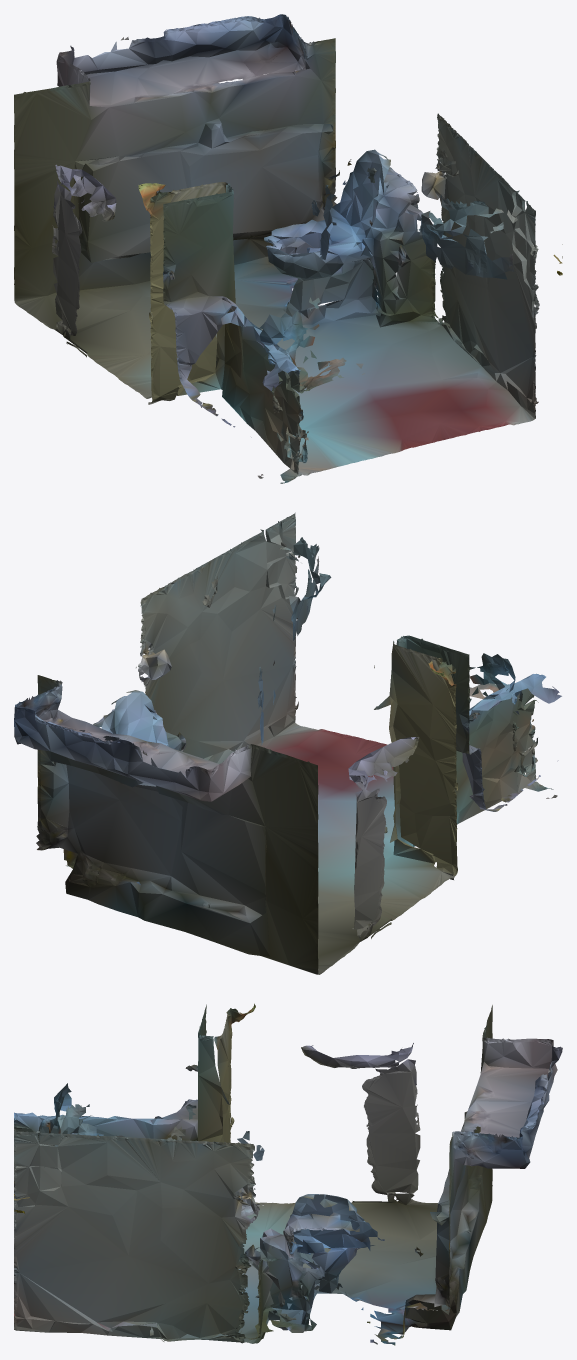
Rendered from coarse.glb.
The picture shows the model from 3 angles, top to bottom: view 1: azimuth 30°, elevation 25°; view 2: azimuth 150°, elevation 25°; view 3: azimuth 270°, elevation 25°; orthographic projection. The views are drawn at different scales.
Bounding box in the file's own units: 1.66 × 1.13 × 2.74.
